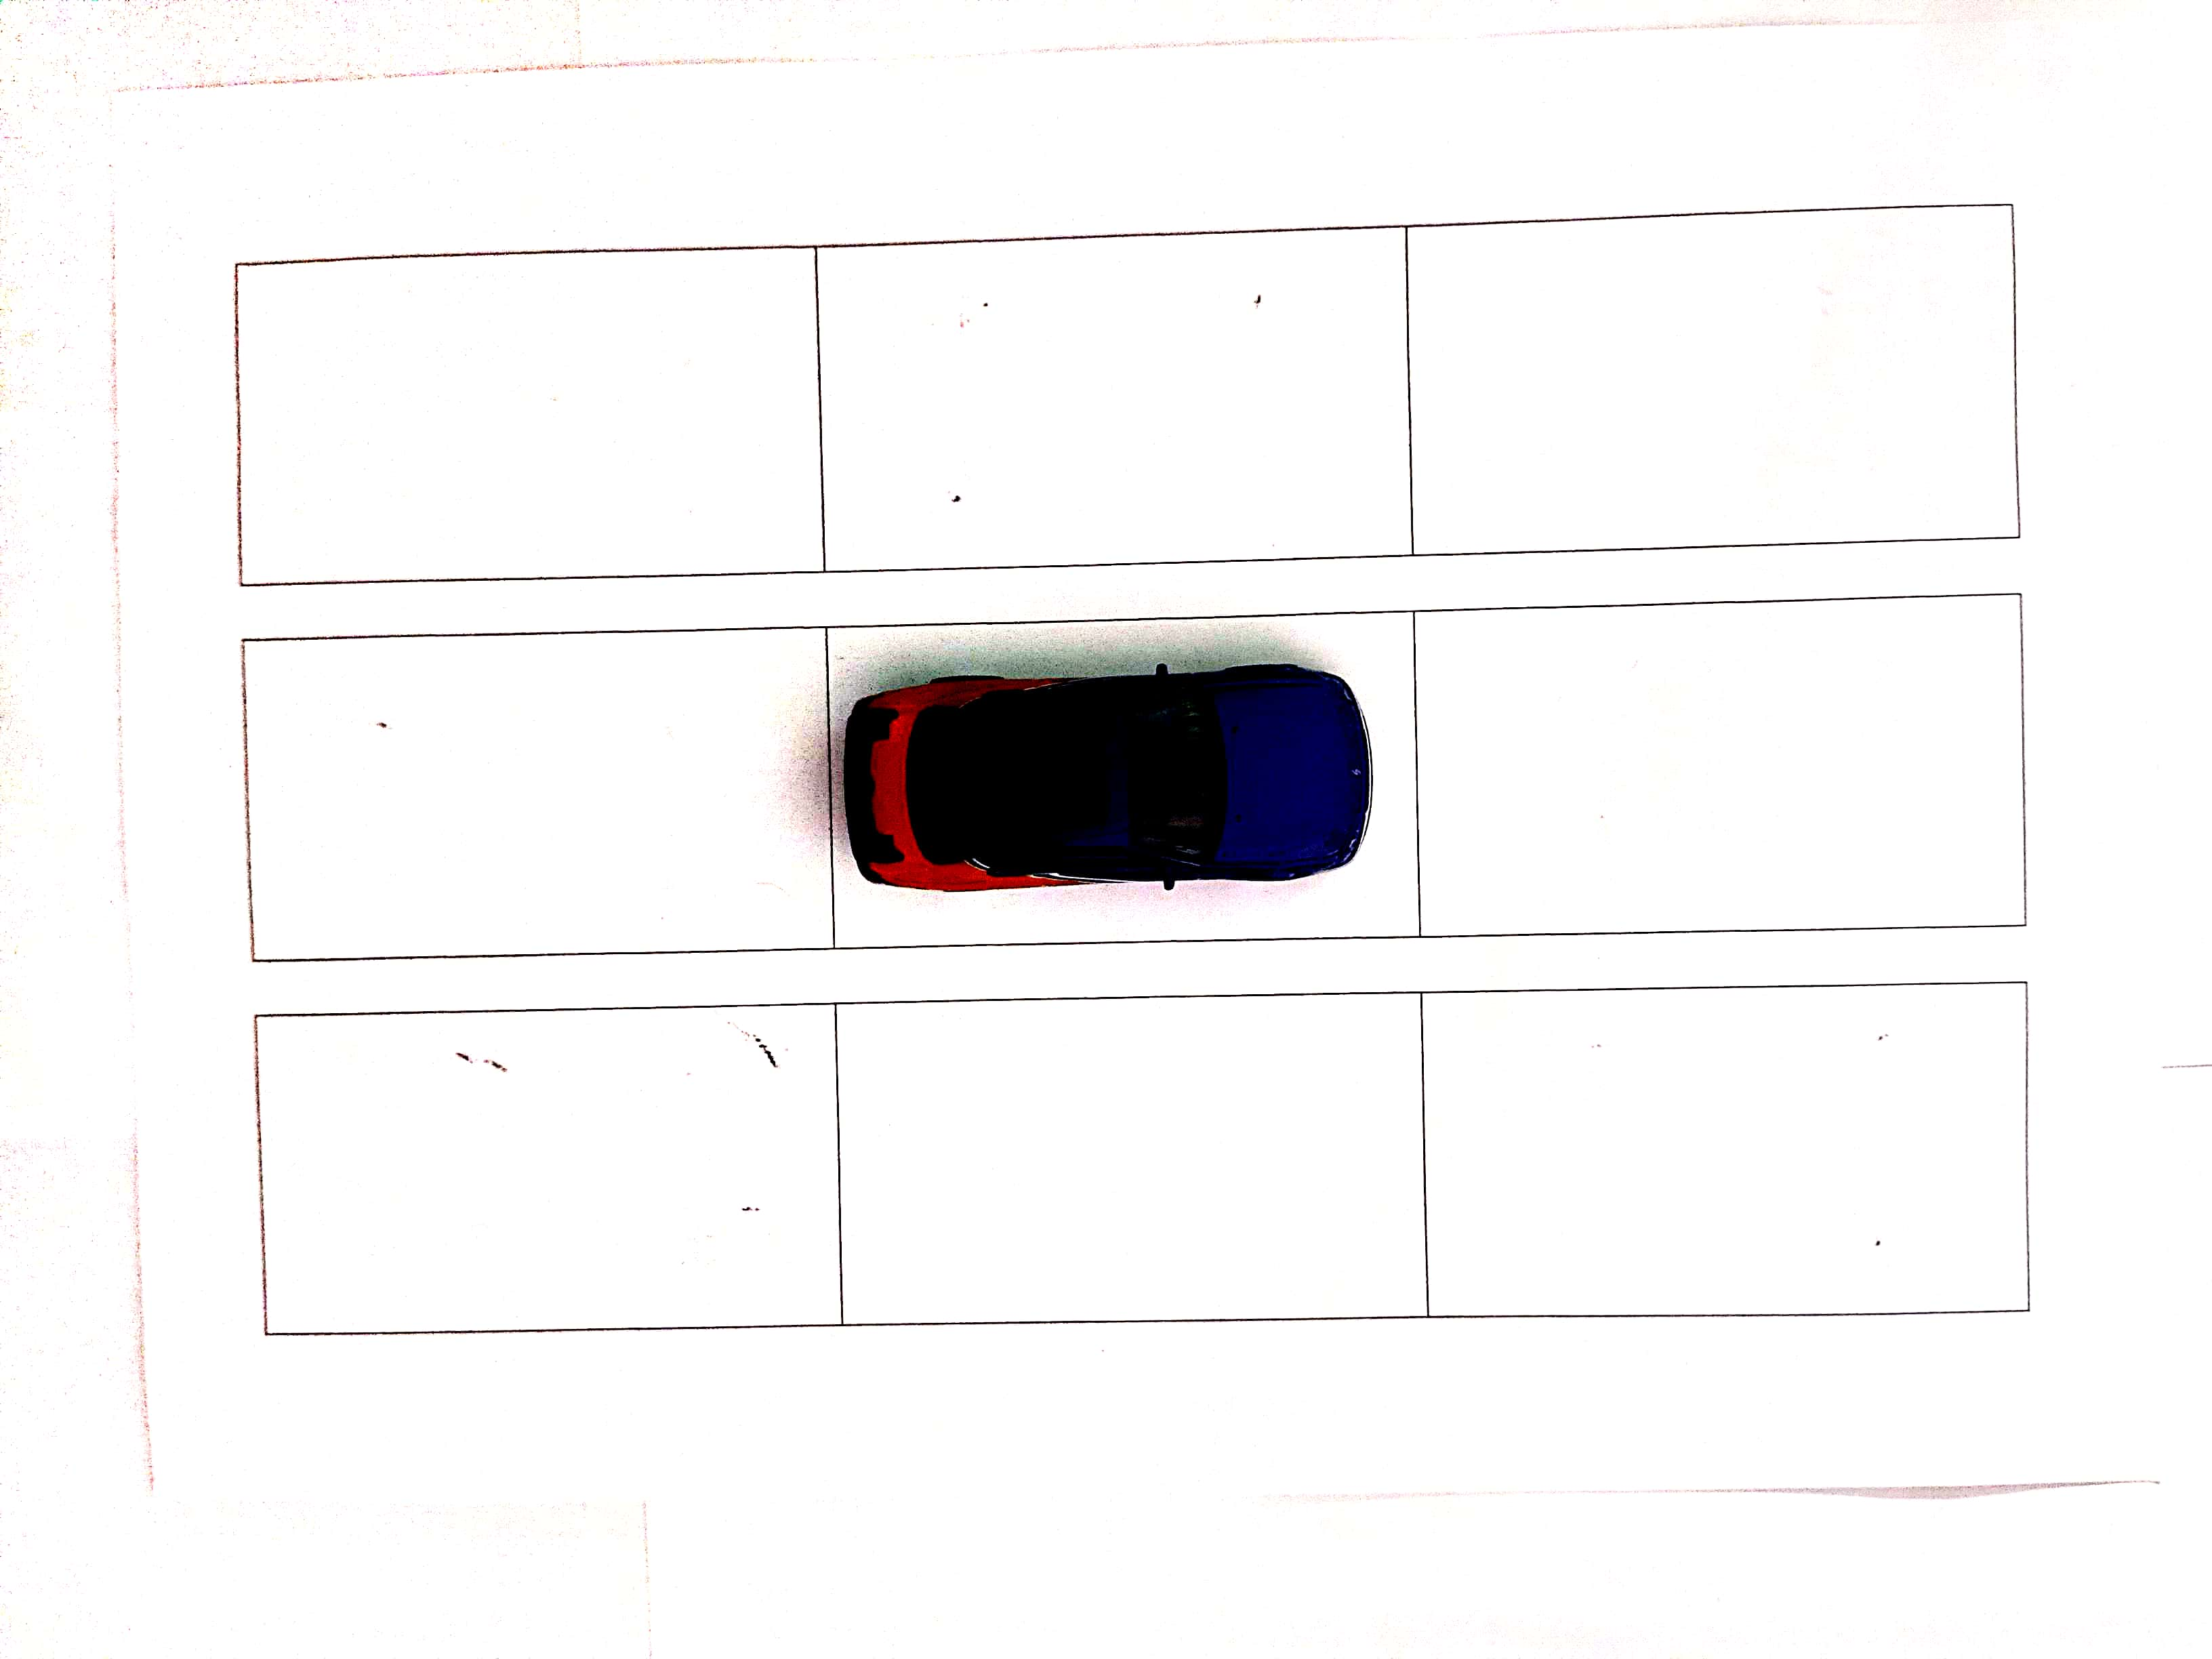Busy: (824, 606, 1414, 936)
Free: (1414, 589, 2027, 932), (233, 240, 810, 589), (1413, 209, 2008, 540), (254, 997, 840, 1331), (819, 220, 1404, 552), (1418, 986, 2033, 1302), (834, 995, 1421, 1314), (249, 626, 822, 946)
